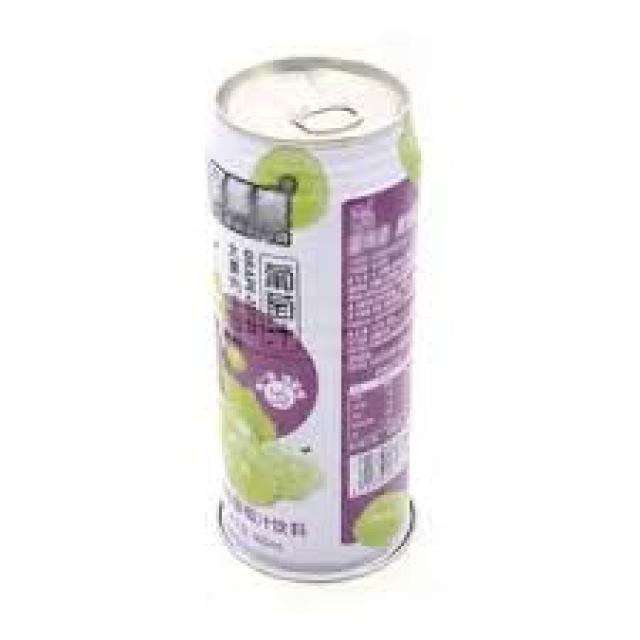Cans: (190, 40, 430, 586)
